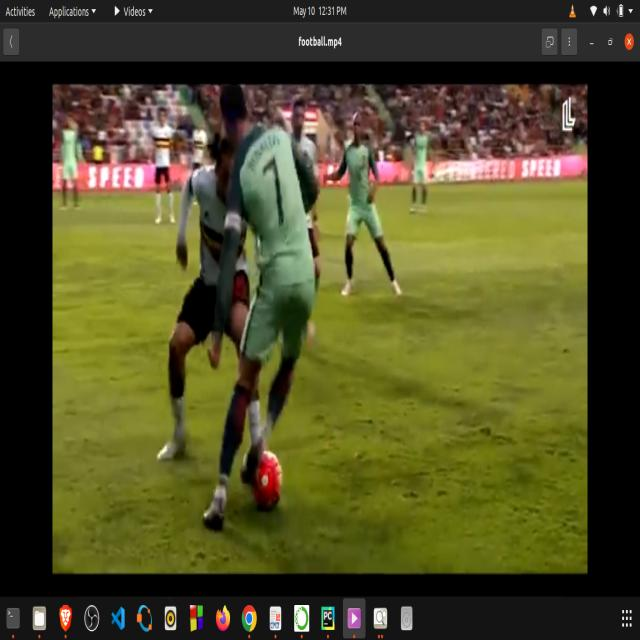Ball: (242, 442, 292, 522)
football-players: (200, 86, 322, 536), (153, 150, 265, 473), (329, 107, 405, 320), (287, 90, 328, 285), (150, 103, 180, 233), (58, 110, 88, 218), (409, 113, 439, 221), (188, 114, 208, 199)
